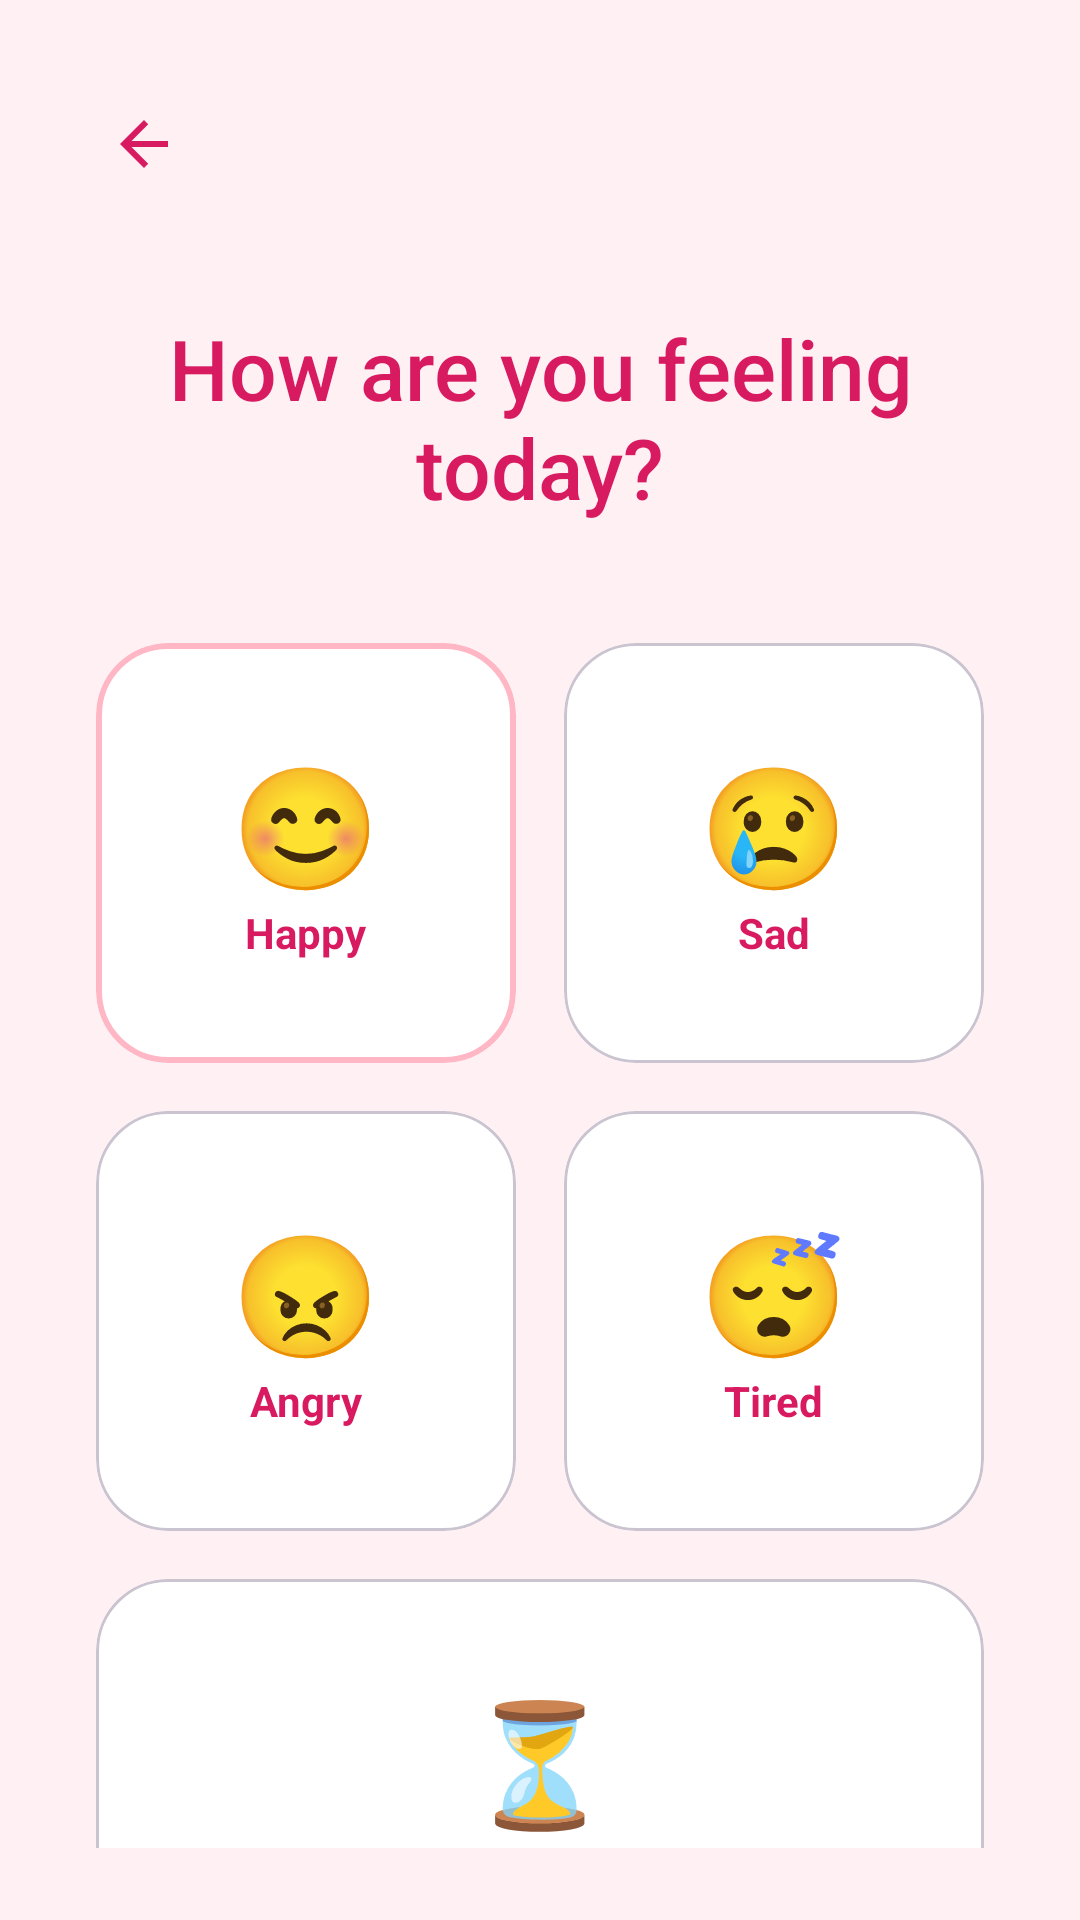

Point at icon controls on the screen. Image size 1080×1920, points as [x,y].
Back: [144,144]
